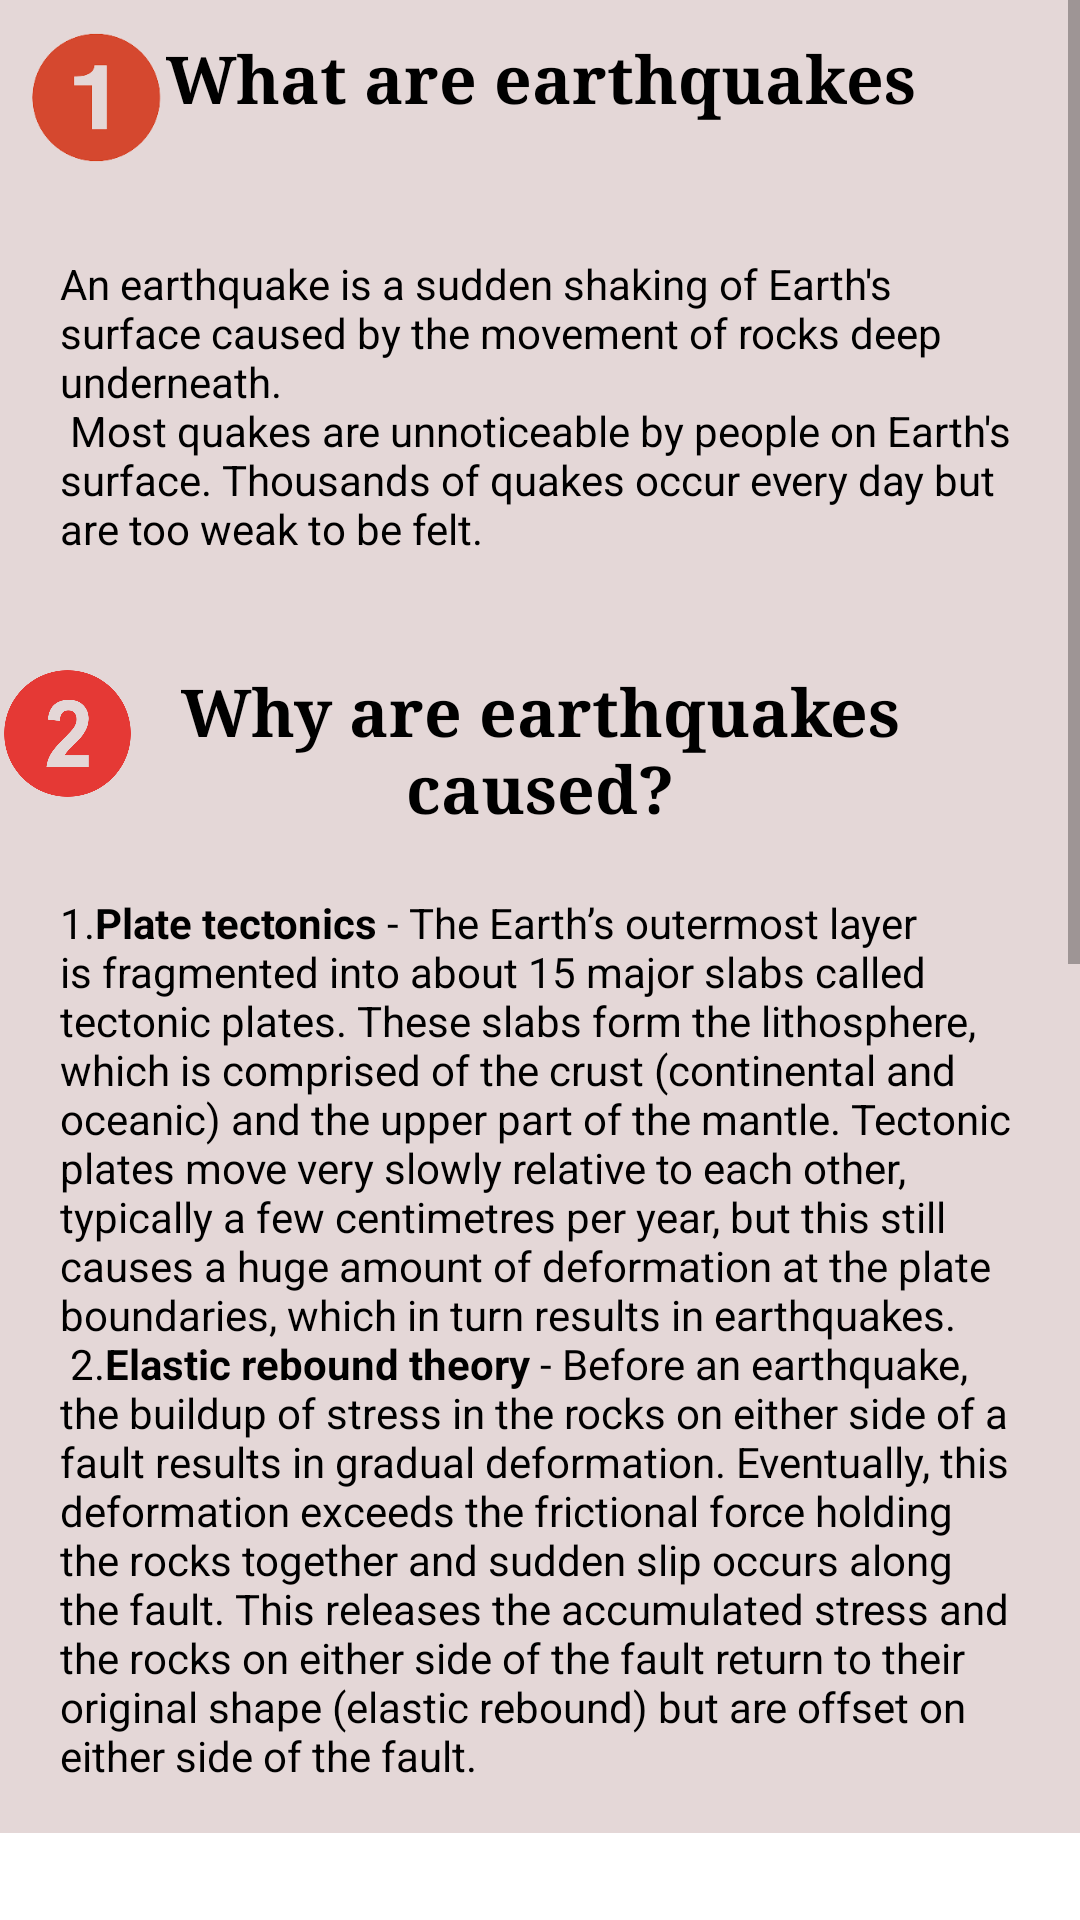

Screen size 1080 x 1920. Icon name, then its box in pixels as region(x1, y1, x2, y2):
numberonenew: region(32, 34, 161, 161)
numbertwonew: region(4, 670, 131, 797)
